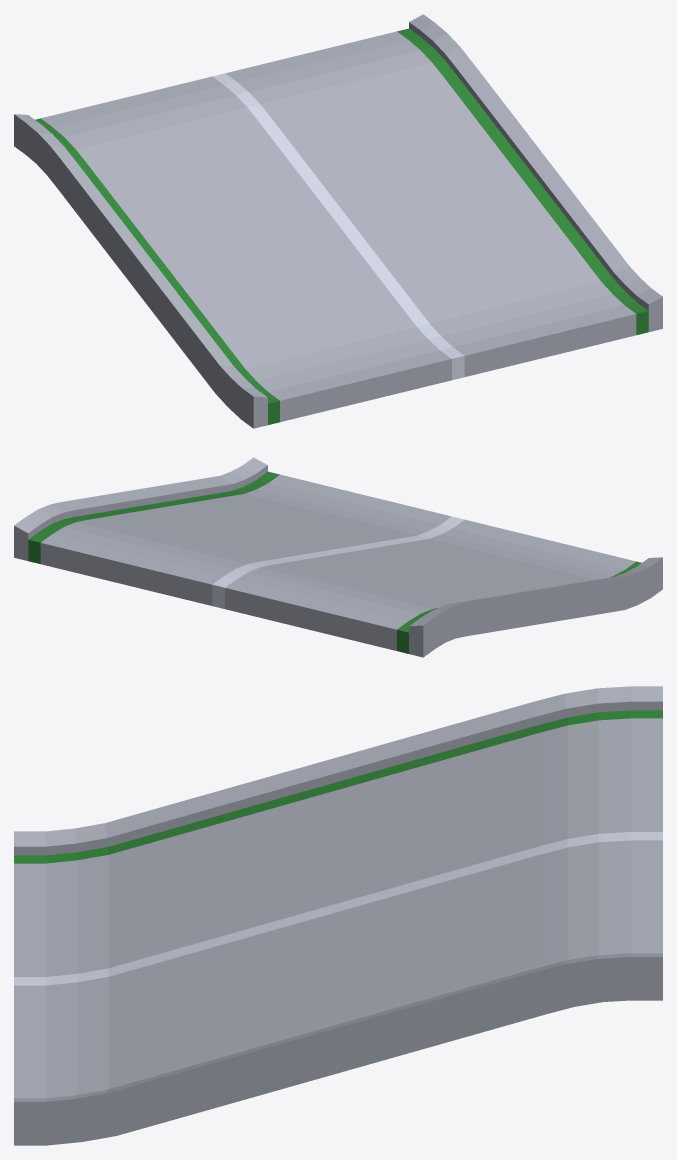
Rendered from slope_up.glb.
3 renders of one model, top to bottom at view 1: azimuth 30°, elevation 25°; view 2: azimuth 150°, elevation 25°; view 3: azimuth 270°, elevation 25°, orthographic. The views are drawn at different scales.
Visible parts, largest first — view 1: slope_up; view 2: slope_up; view 3: slope_up.
Boxes of the visible parts, x1=… form: slope_up: x1=14, y1=14, x2=662, y2=428; slope_up: x1=14, y1=457, x2=662, y2=657; slope_up: x1=14, y1=686, x2=662, y2=1145.
Bounding box in the file's own units: 20 × 6.5 × 20.27.
